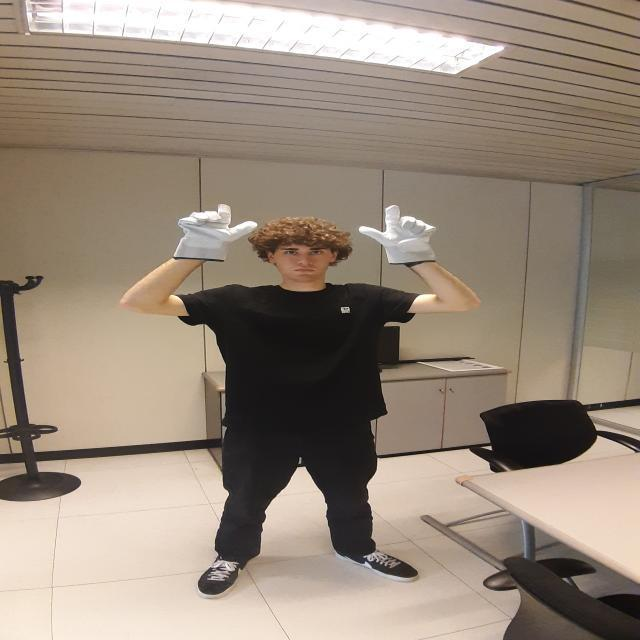gloved_hand: (359, 205, 449, 267), (177, 203, 253, 264)
